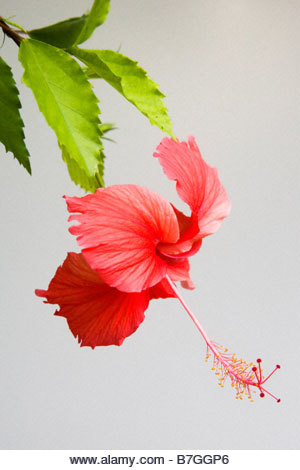Hibiscus: (32, 132, 292, 424)
